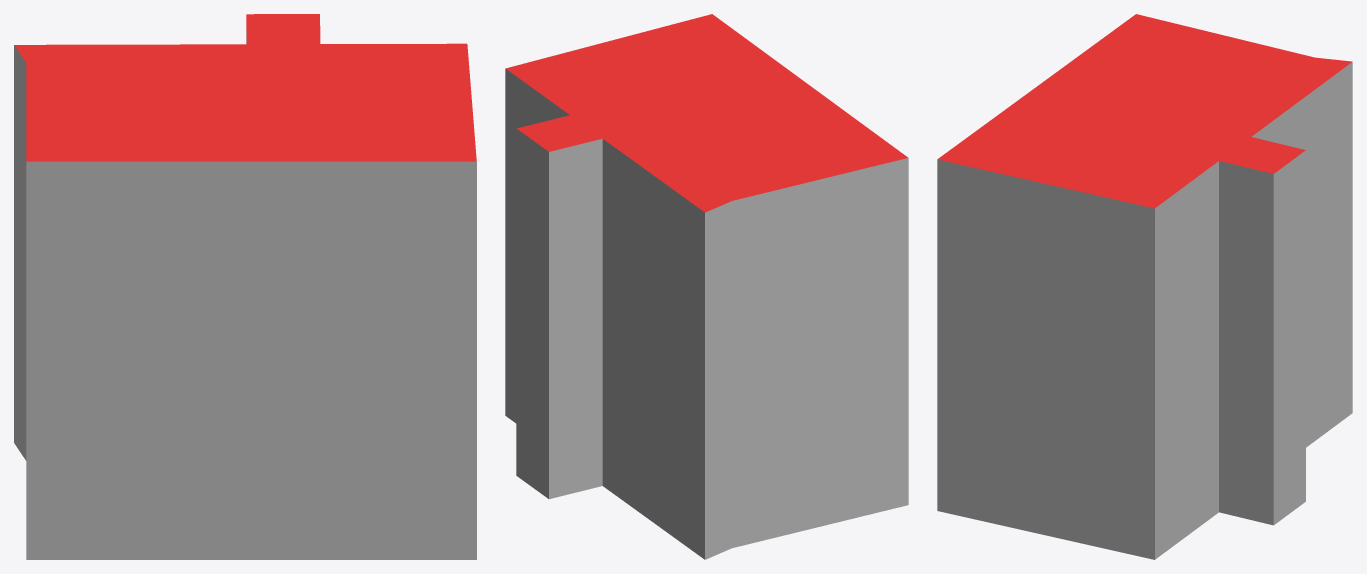
The model's file is DEBE3D04YY50000Qdy.dae.
The picture shows the model from 3 angles, left to right: view 1: azimuth 30°, elevation 25°; view 2: azimuth 150°, elevation 25°; view 3: azimuth 270°, elevation 25°; orthographic projection. The views are drawn at different scales.
Bounding box in the file's own units: 21.99 × 19.86 × 18.53.
